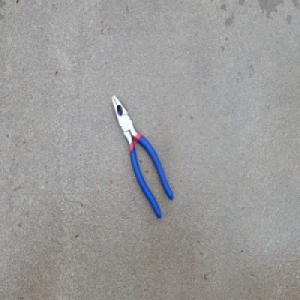Pliers: (110, 91, 174, 220)
